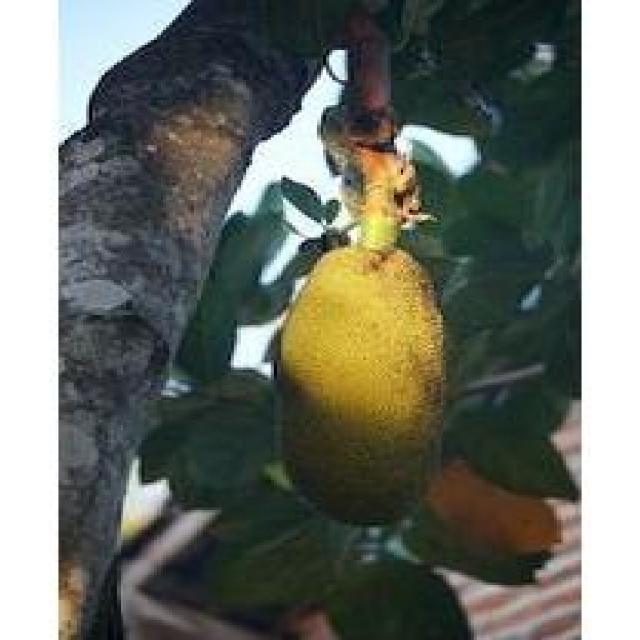Fruit: (243, 225, 465, 545)
